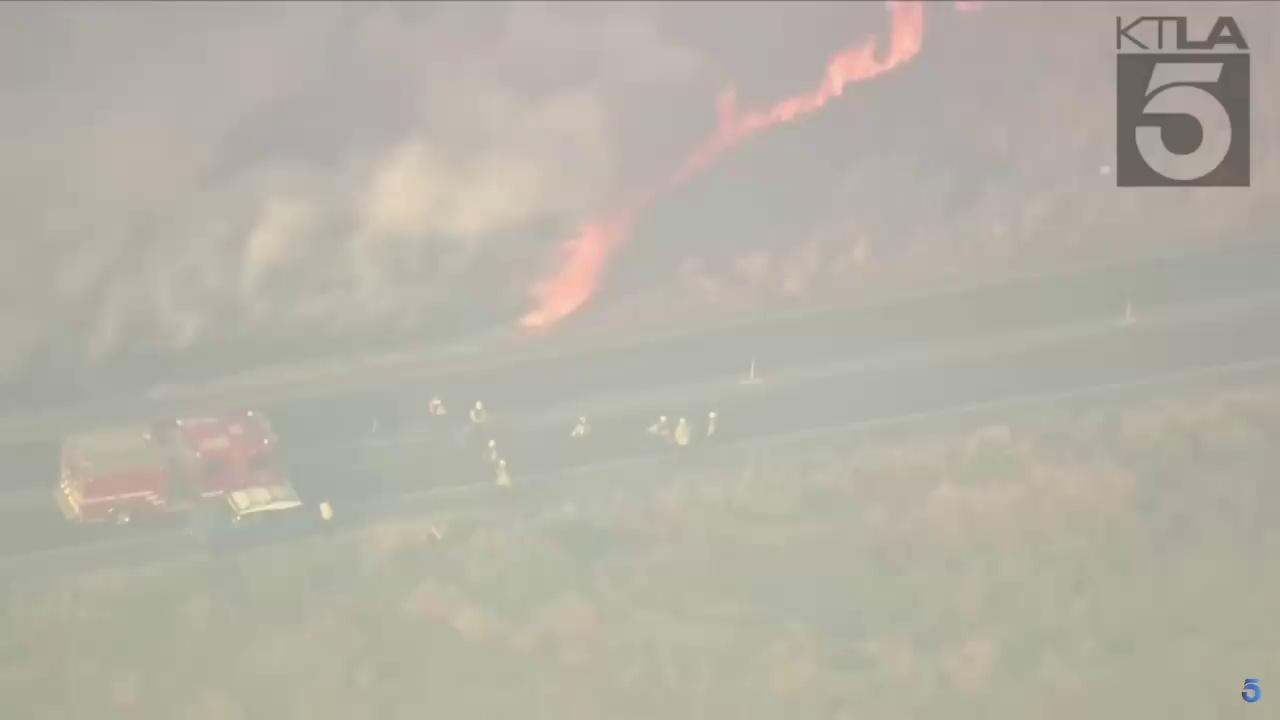fire: (683, 0, 925, 185), (519, 217, 625, 327), (951, 0, 986, 17)
smoke: (0, 0, 885, 385)
